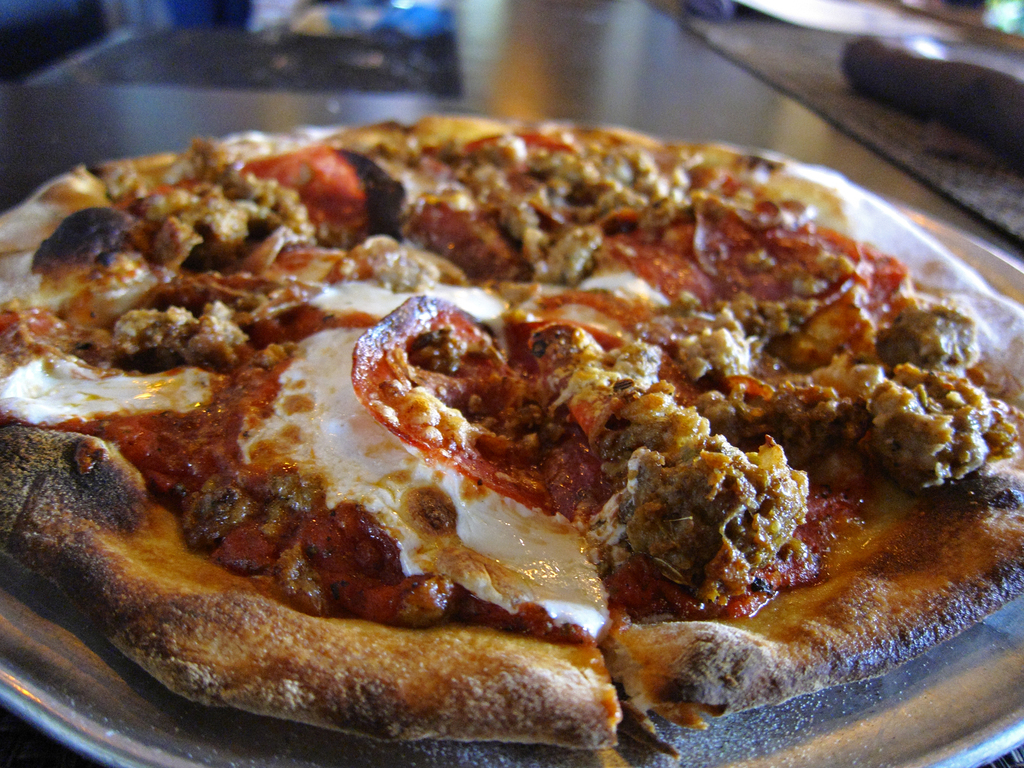pizza: (0, 108, 1023, 741)
